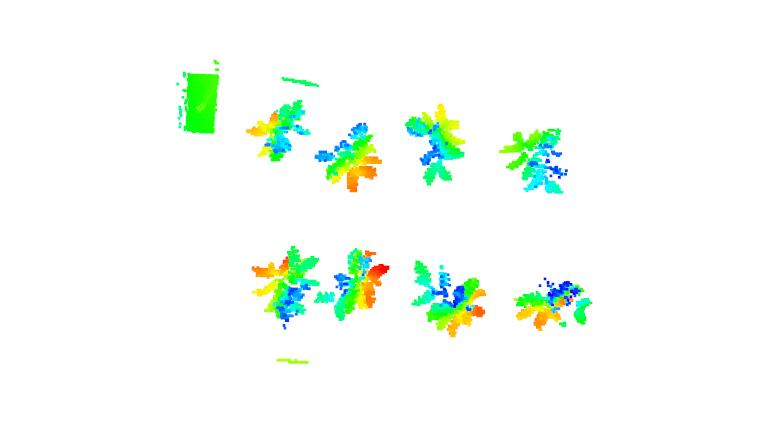chickpea: (409, 257, 490, 336), (249, 240, 322, 325), (317, 247, 393, 320), (403, 102, 466, 185), (313, 122, 385, 192), (244, 96, 313, 162), (504, 127, 570, 195), (515, 276, 593, 333)
